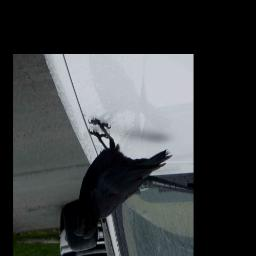Crow: (74, 116, 172, 240)
